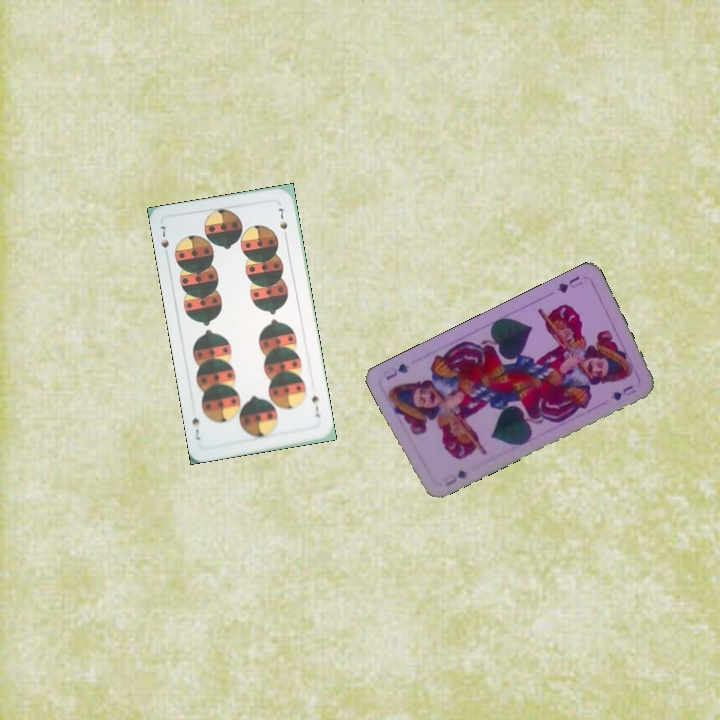GU: (553, 272, 585, 296), (441, 466, 471, 489)
S7: (157, 221, 171, 261), (308, 391, 323, 420)
